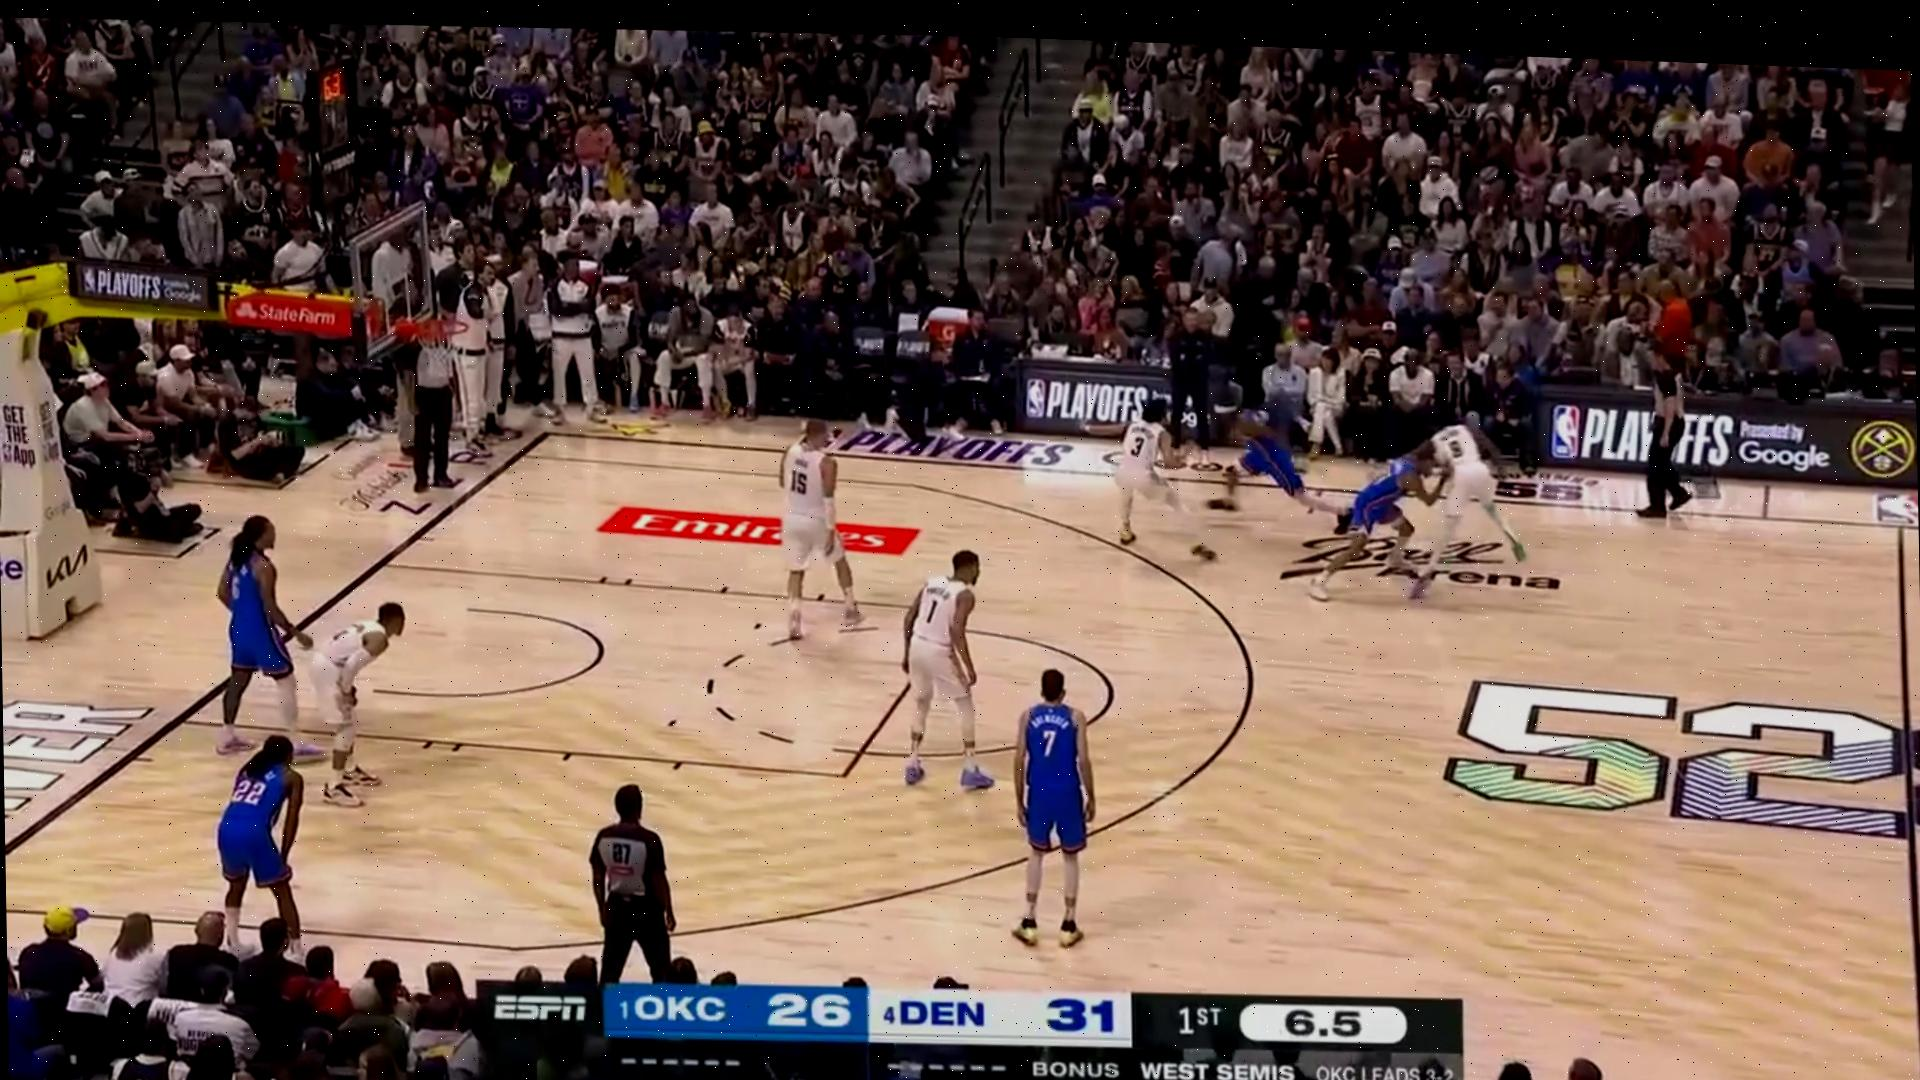foul: (1317, 394, 1538, 611)
